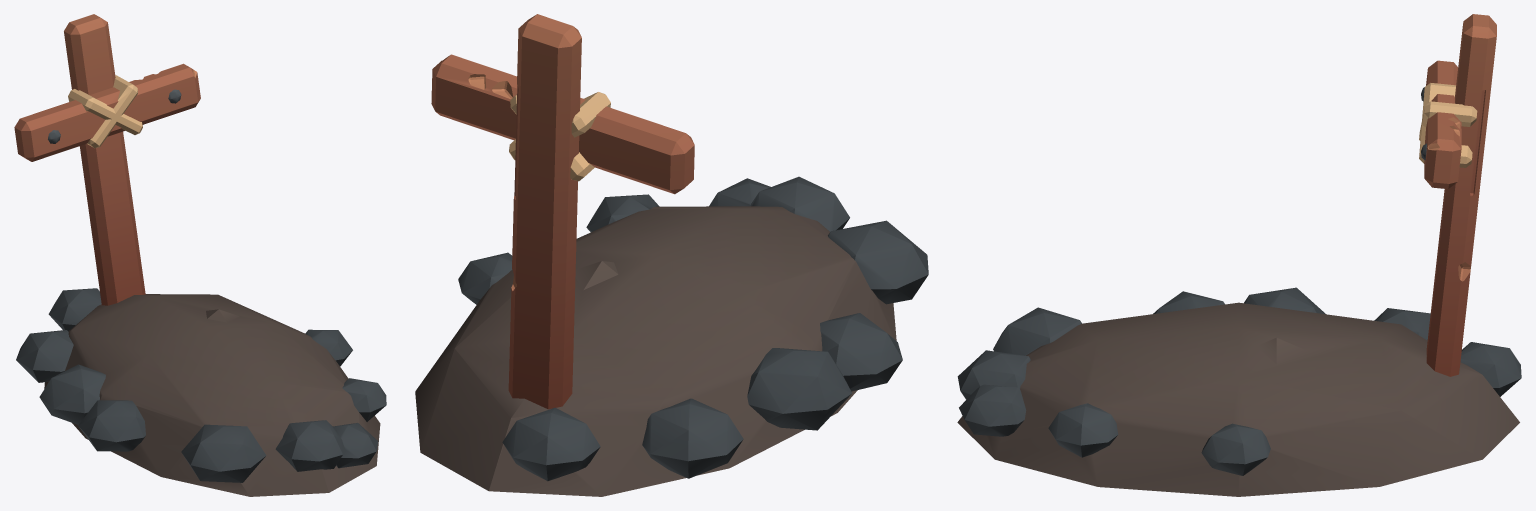
The model's file is grave_wood.glb.
3 views of the same model, side by side, from view 1: azimuth 30°, elevation 25°; view 2: azimuth 150°, elevation 25°; view 3: azimuth 270°, elevation 25° (orthographic). The views are drawn at different scales.
Parts seen in each view (by area): view 1: grave_wood; view 2: grave_wood; view 3: grave_wood.
Boxes of the visible parts, x1,y1,x2,y2 form: grave_wood: (14, 14, 386, 496); grave_wood: (415, 14, 928, 496); grave_wood: (957, 14, 1521, 496).
Bounding box in the file's own units: 1.5 × 1.63 × 2.15.
Materials: 1 (1 with a texture image).
